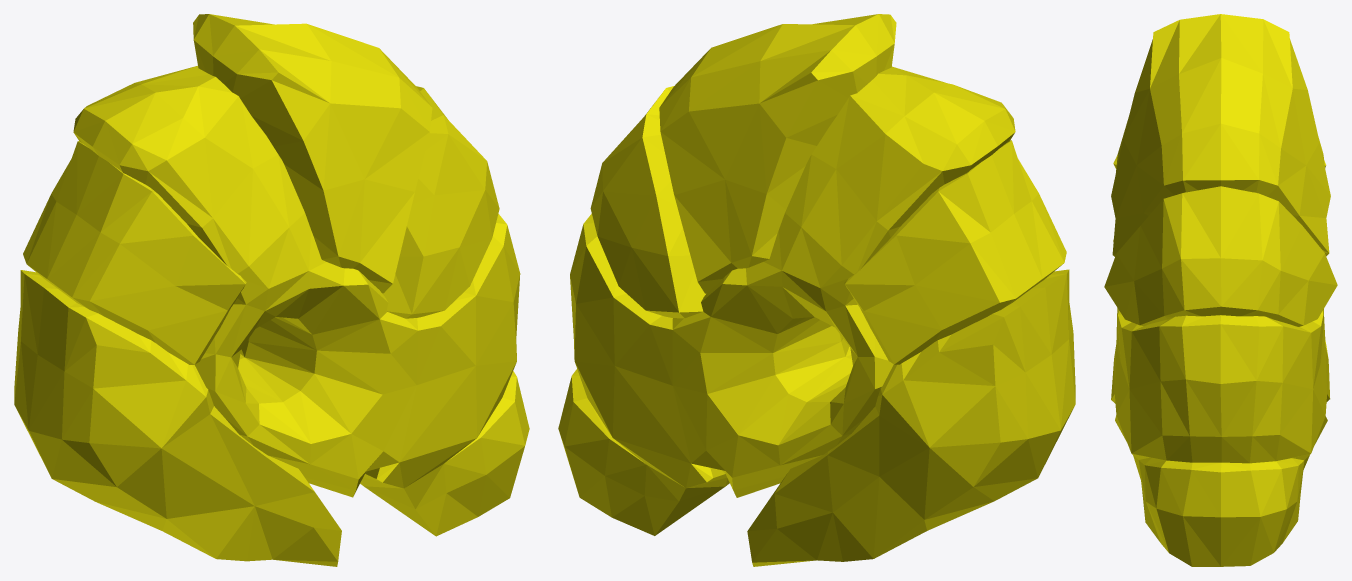
Rendered from small_glyph_02.glb.
3 views of the same model, side by side, from view 1: azimuth 30°, elevation 25°; view 2: azimuth 150°, elevation 25°; view 3: azimuth 270°, elevation 25° (orthographic). The views are drawn at different scales.
Visible parts, largest first — view 1: mesh_node.002; view 2: mesh_node.002; view 3: mesh_node.002.
Part boxes in pixels (x1,y1,x2,y2): mesh_node.002: (14, 14, 529, 566); mesh_node.002: (558, 14, 1075, 566); mesh_node.002: (1104, 14, 1337, 566).
Bounding box in the file's own units: 0.3115 × 0.3352 × 0.1509.
